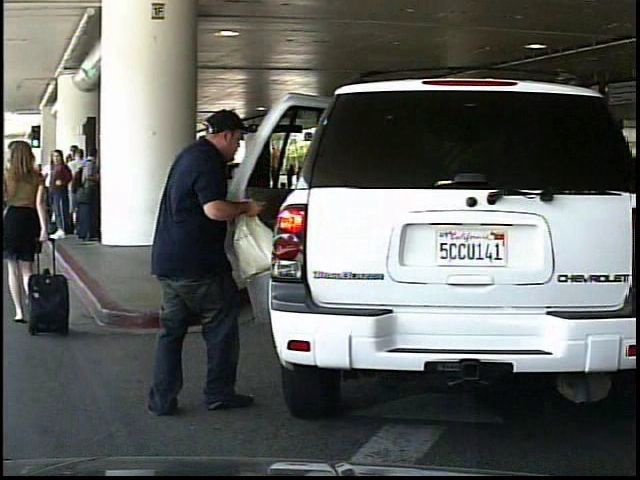person: (153, 104, 274, 411), (6, 137, 55, 332)
